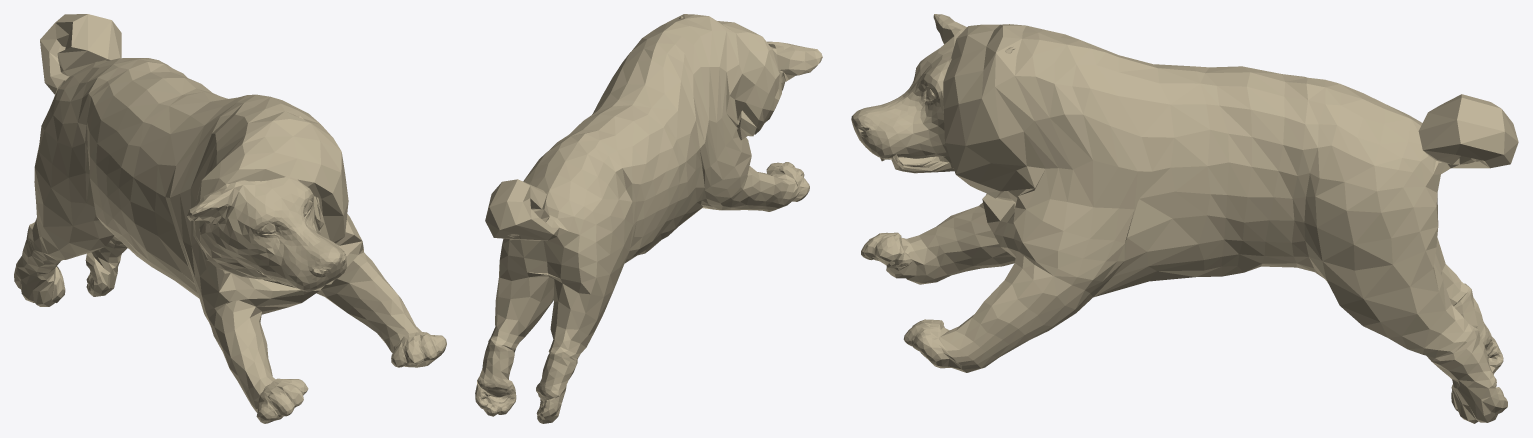
3 views of the same model, side by side, from view 1: azimuth 30°, elevation 25°; view 2: azimuth 150°, elevation 25°; view 3: azimuth 270°, elevation 25° (orthographic). The views are drawn at different scales.
Parts seen in each view (by area): view 1: world; view 2: world; view 3: world.
Part boxes in pixels (x1,y1,x2,y2): world: [14, 14, 446, 423]; world: [475, 14, 822, 423]; world: [851, 14, 1518, 423].
Size of the model in its own units: 0.5345 by 0.7017 by 1.14.
